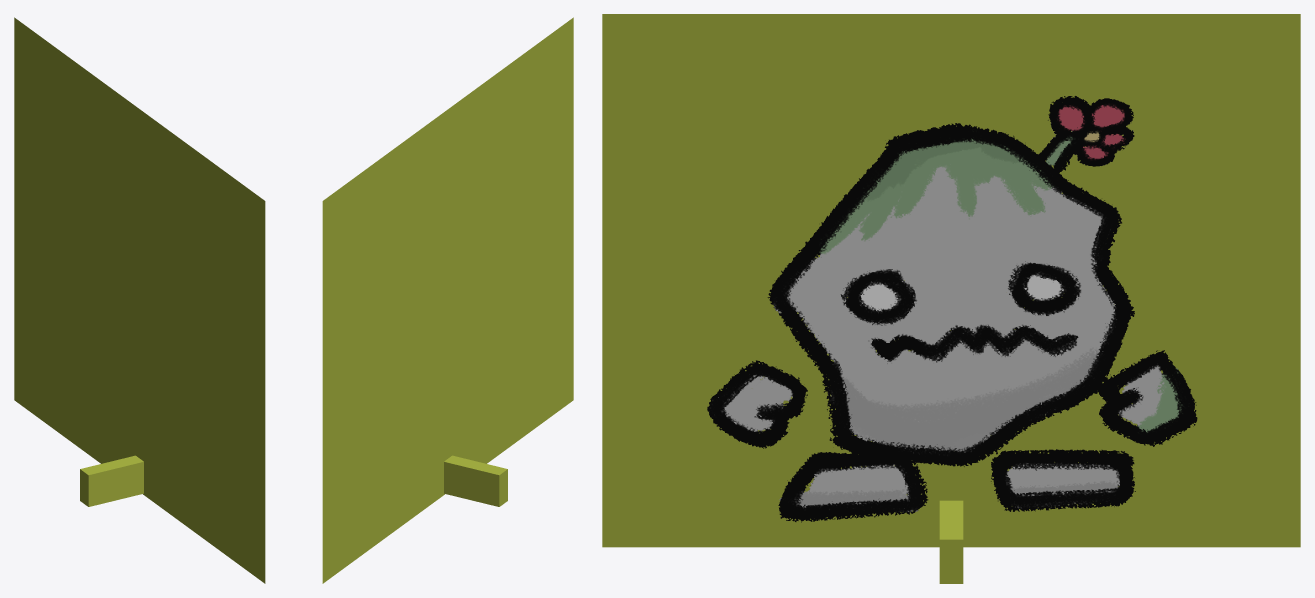
The model's file is RockEnemy.fbx.
3 views of the same model, side by side, from view 1: azimuth 30°, elevation 25°; view 2: azimuth 150°, elevation 25°; view 3: azimuth 270°, elevation 25° (orthographic). The views are drawn at different scales.
Parts seen in each view (by area): view 1: Rock1; view 2: Rock1; view 3: Rock1.
Part boxes in pixels (left/top/right/bottom): Rock1: left=14, top=17, right=265, bottom=583; Rock1: left=322, top=17, right=573, bottom=583; Rock1: left=602, top=14, right=1300, bottom=583.
Bounding box in the file's own units: 30.87 × 100 × 119.
Materials: 2 (1 with a texture image).
